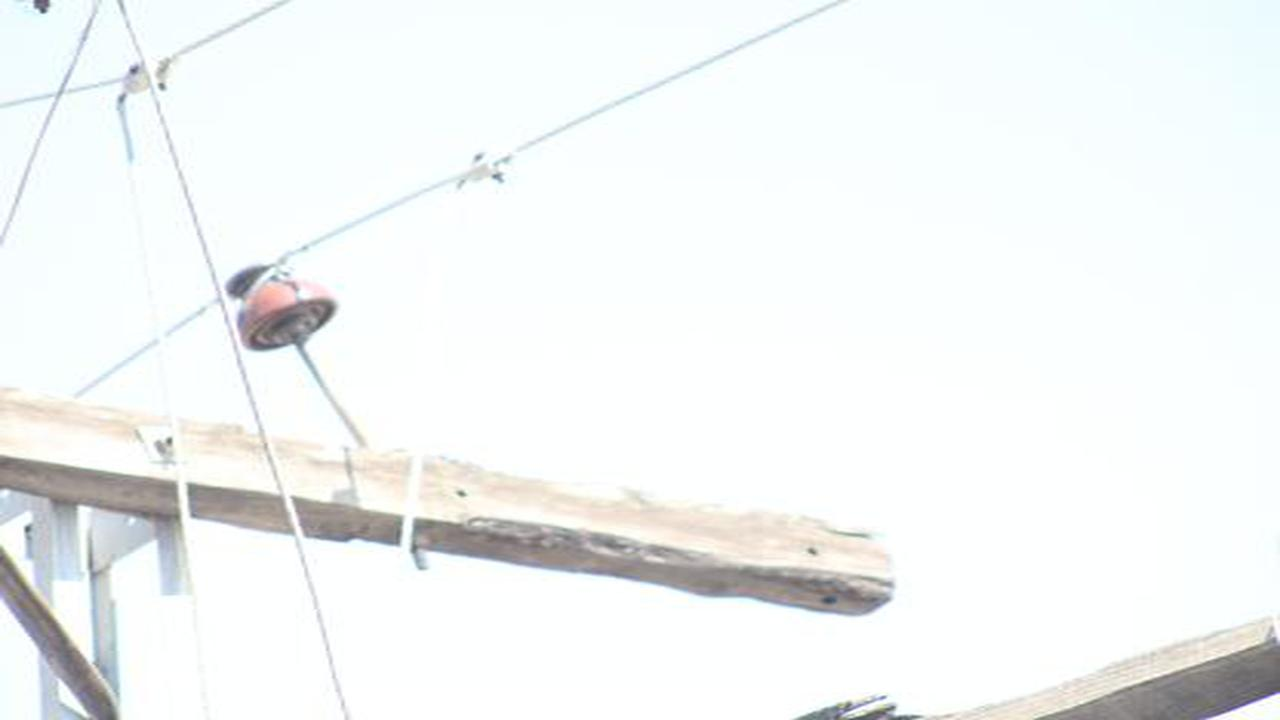insulator_pin: (225, 259, 340, 358)
